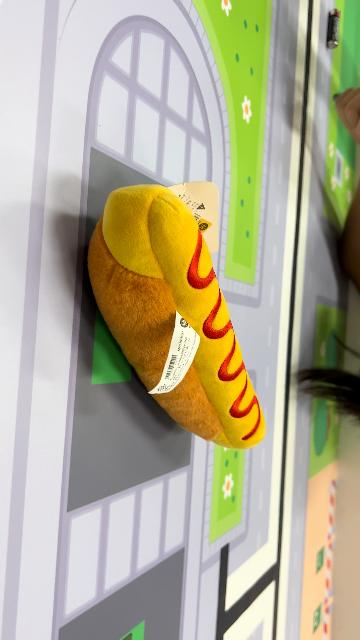hotdog: (86, 184, 268, 452)
